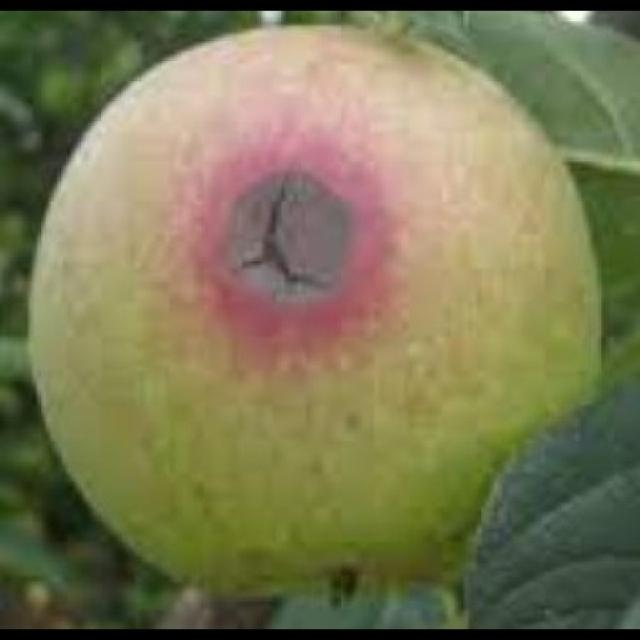Rotten Apple: (23, 20, 611, 602)
